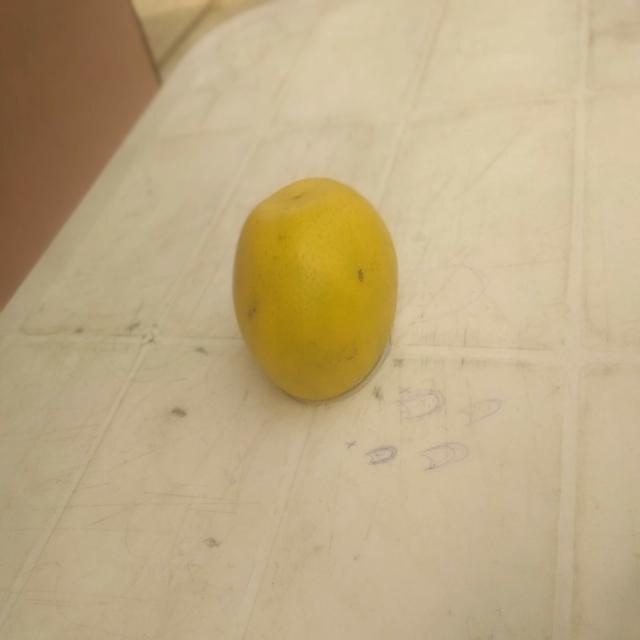agrume: (231, 174, 402, 405)
